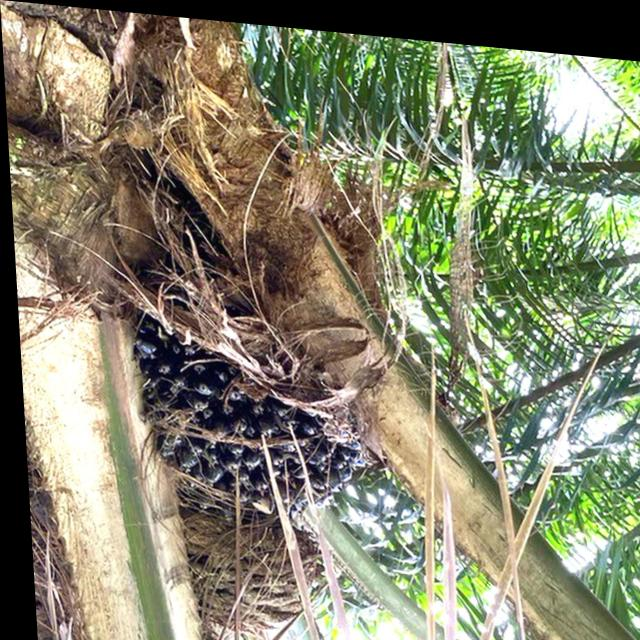unripe: (136, 302, 354, 494)
